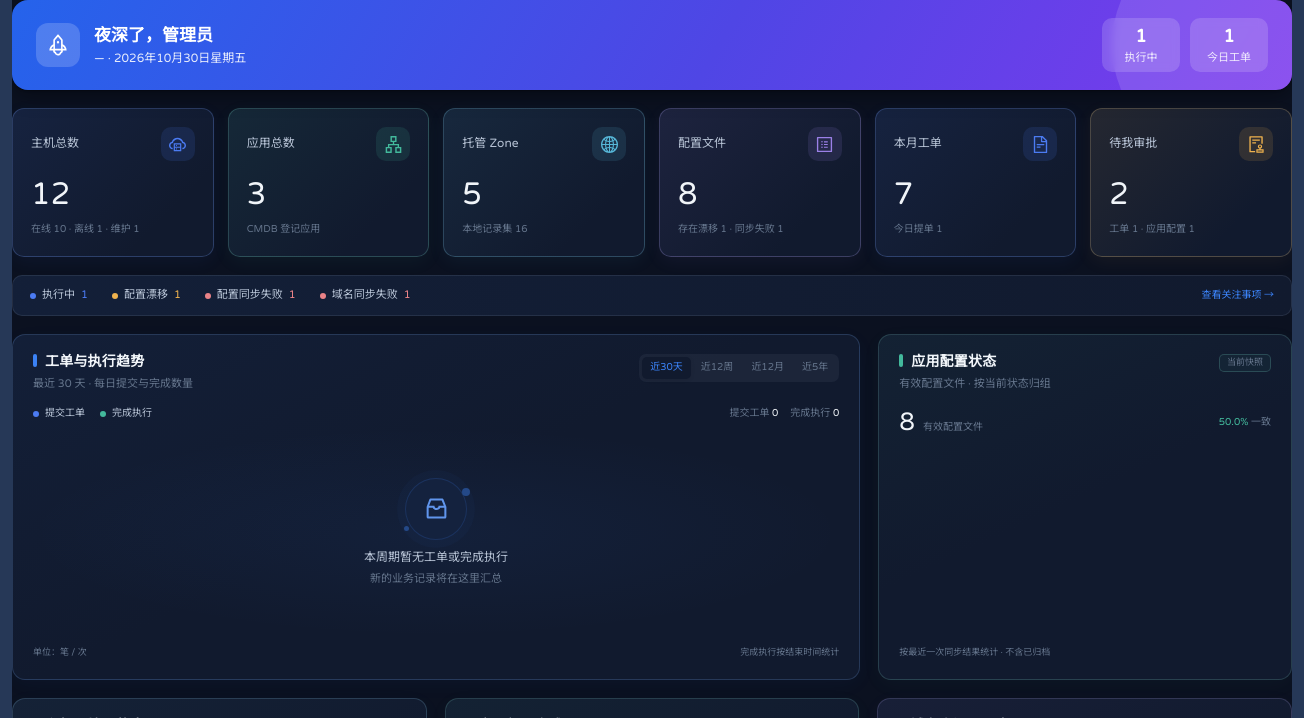
全零趋势提示本周期无活动，有业务记录后提示消失
This screenshot has width=1304, height=718.
Expected: the element with test id "chart-zero-trend" shows "本周期暂无工单或完成执行", [364,550,508,564]
Click the button "近12周" at (717,368), box [693,357,741,379]
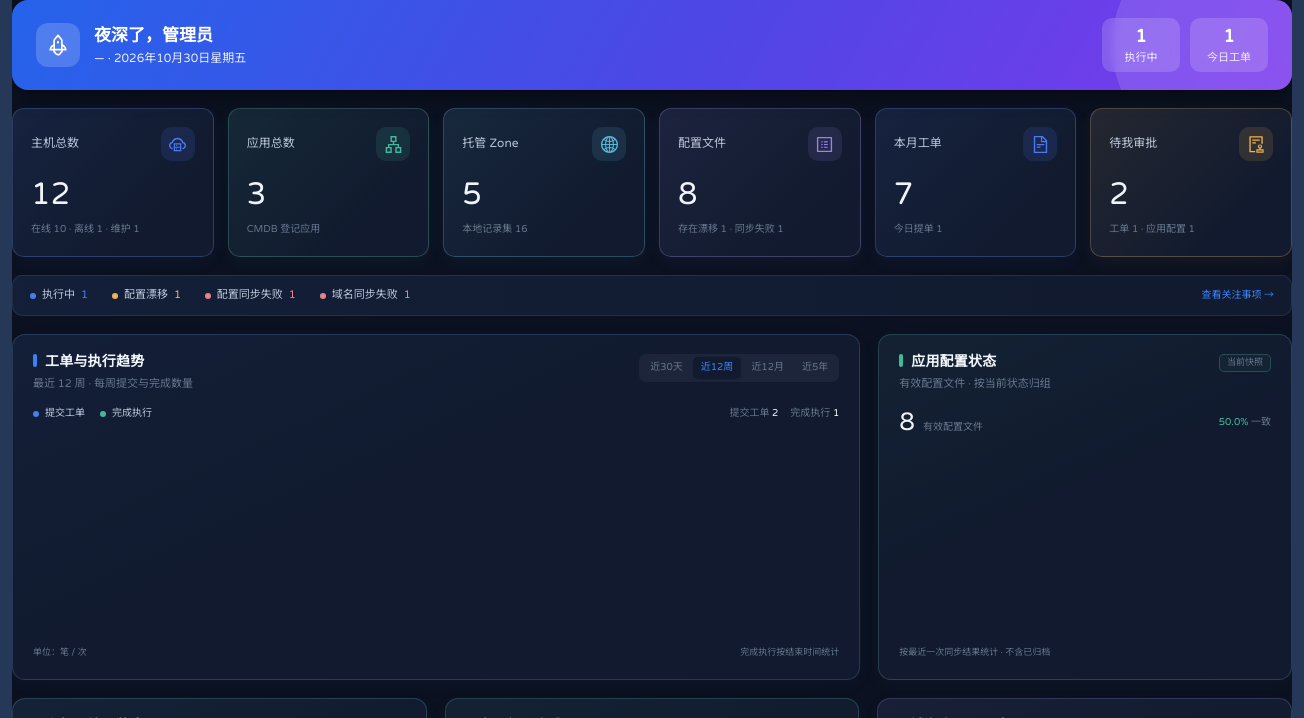
Expected: the element with test id "trend-total" shows "提交工单 2", [729,408,839,420]
